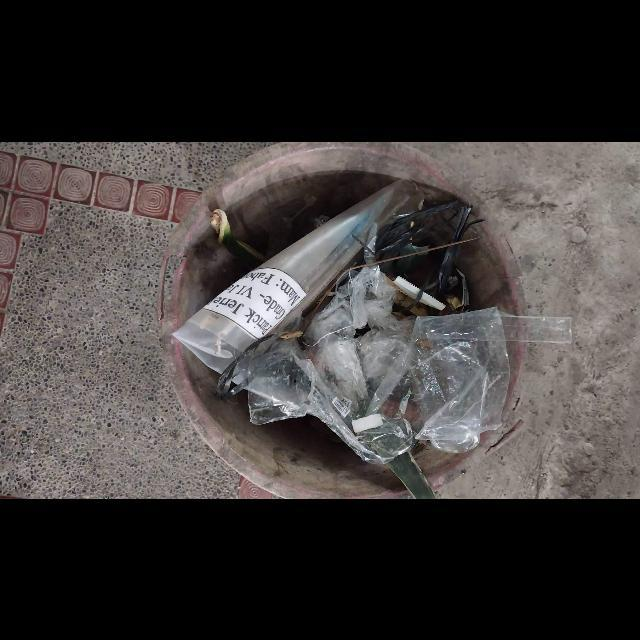plastic: (219, 306, 574, 465), (172, 179, 431, 373), (301, 264, 399, 346)
